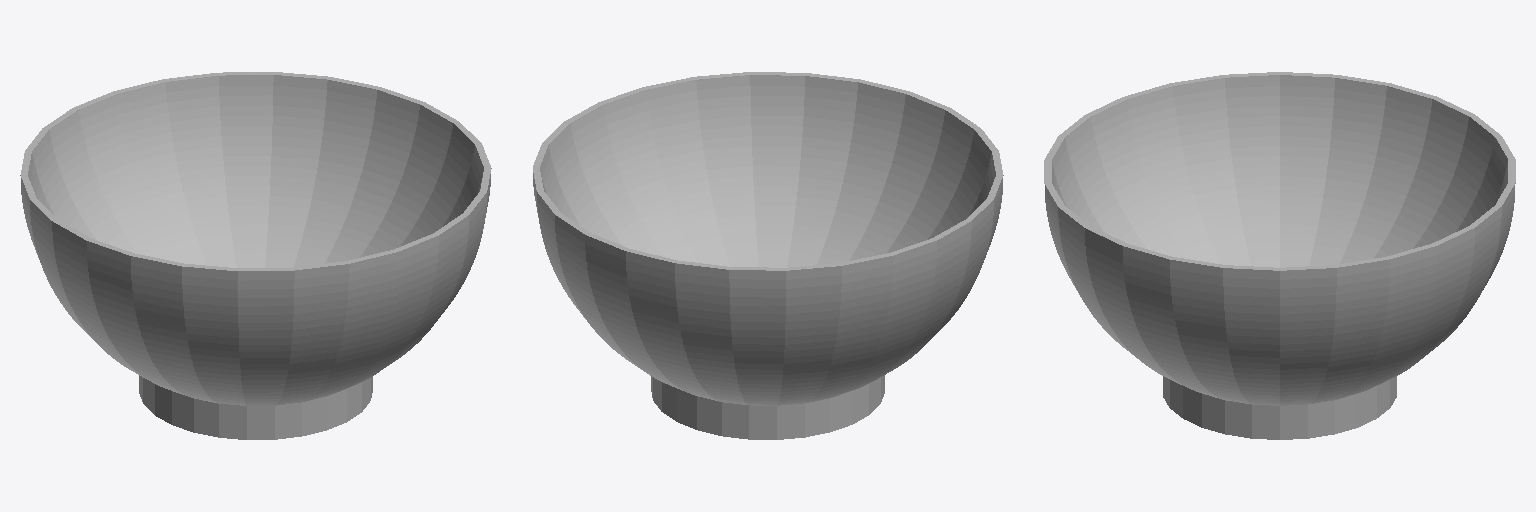
URDF robot description (root):
<robot name="root">
  <link name="link_001">
    <visual>
      <origin xyz="0 0 0" rpy="0 0 0"/>
      <geometry>
        <mesh filename="bowl.obj" scale="1.5000E+00 1.5000E+00 1.5000E+00"/>
      </geometry>
      <material name="">
        <color rgba="7.50E-01 7.50E-01 7.50E-01 1"/>
      </material>
    </visual>
    <collision>
      <origin xyz="0 0 0" rpy="0 0 0"/>
      <geometry>
        <mesh filename="bowl.obj" scale="1.5000E+00 1.5000E+00 1.5000E+00"/>
      </geometry>
    </collision>
    <inertial>
      <mass value="0.16"/> <!-- 质量：0.1kg -->
    </inertial>
  </link>
</robot>

--- Facts derived from the render (not from the file) ---
Views: 3 orthographic renders of the robot side by side, from view 1: azimuth 30°, elevation 25°; view 2: azimuth 150°, elevation 25°; view 3: azimuth 270°, elevation 25°.
Model root with 1 links and 0 joints (none), rooted at link_001, posed every joint at zero.
Links seen in each view (by area): view 1: link_001; view 2: link_001; view 3: link_001.
Link boxes in pixels (bbox=[...]): link_001: bbox=[20, 72, 491, 439]; link_001: bbox=[533, 72, 1003, 439]; link_001: bbox=[1044, 72, 1515, 439].
Bounding box of the posed robot: 0.2234 × 0.2234 × 0.1149 m (x, y, z).
Meshes: 1 distinct files referenced, 1 mesh visuals loaded (1 OBJ).
